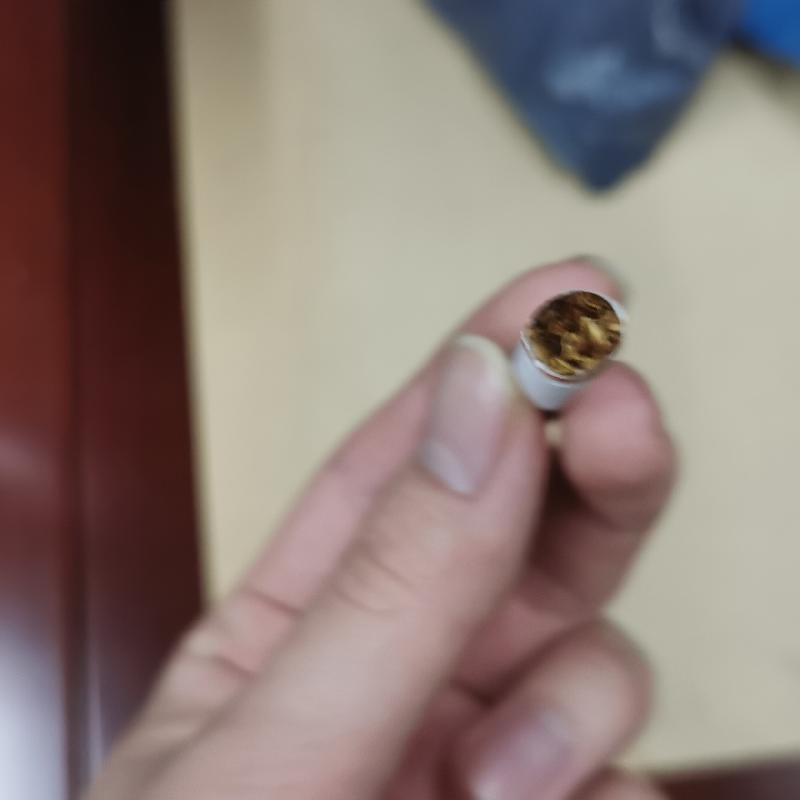cigarette: (507, 291, 632, 397)
